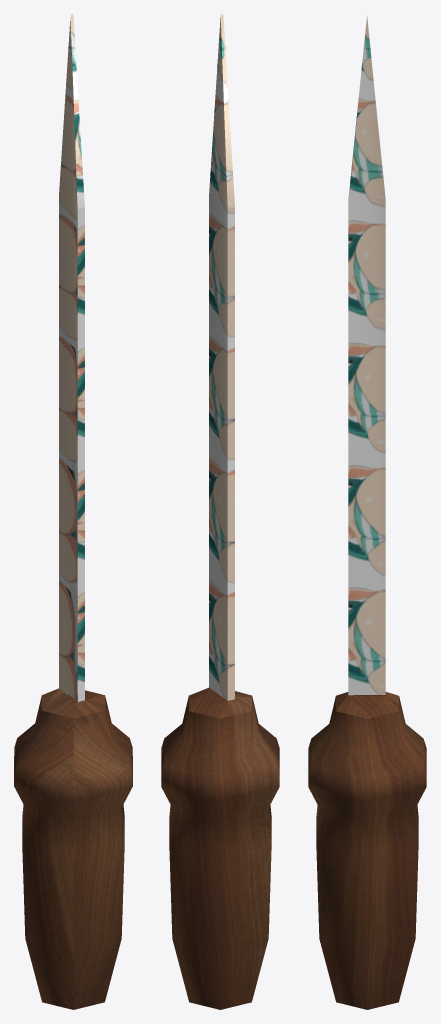
The model's file is skewer_metal_and_mikuass_fbx_test.FBX.
3 renders of one model, left to right at view 1: azimuth 30°, elevation 25°; view 2: azimuth 210°, elevation 25°; view 3: azimuth 270°, elevation 25°, orthographic.
Parts seen in each view (by area): view 1: Box001; view 2: Box001; view 3: Box001.
Boxes of the visible parts, bbox=[...] form: Box001: bbox=[14, 14, 132, 1009]; Box001: bbox=[161, 14, 279, 1009]; Box001: bbox=[308, 15, 426, 1009].
Bounding box in the file's own units: 12.47 × 10.8 × 98.44.
Materials: 1 (1 with a texture image).
